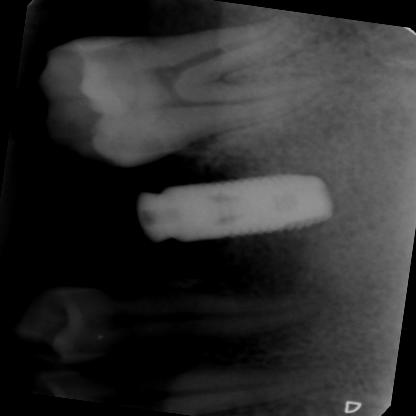ITI: (127, 167, 340, 251)
